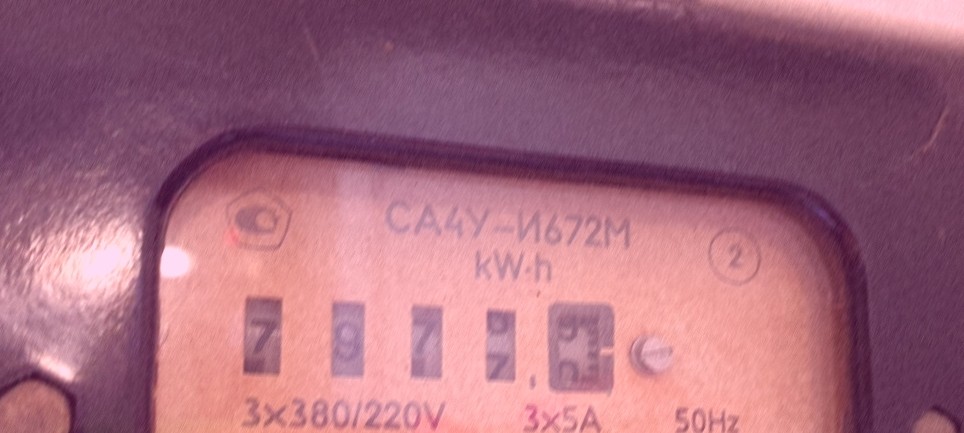0: (555, 356, 578, 386)
7: (244, 314, 278, 360), (482, 344, 512, 386), (409, 317, 438, 358)
9: (330, 318, 361, 365), (553, 313, 583, 345)
screen: (227, 280, 630, 412)
